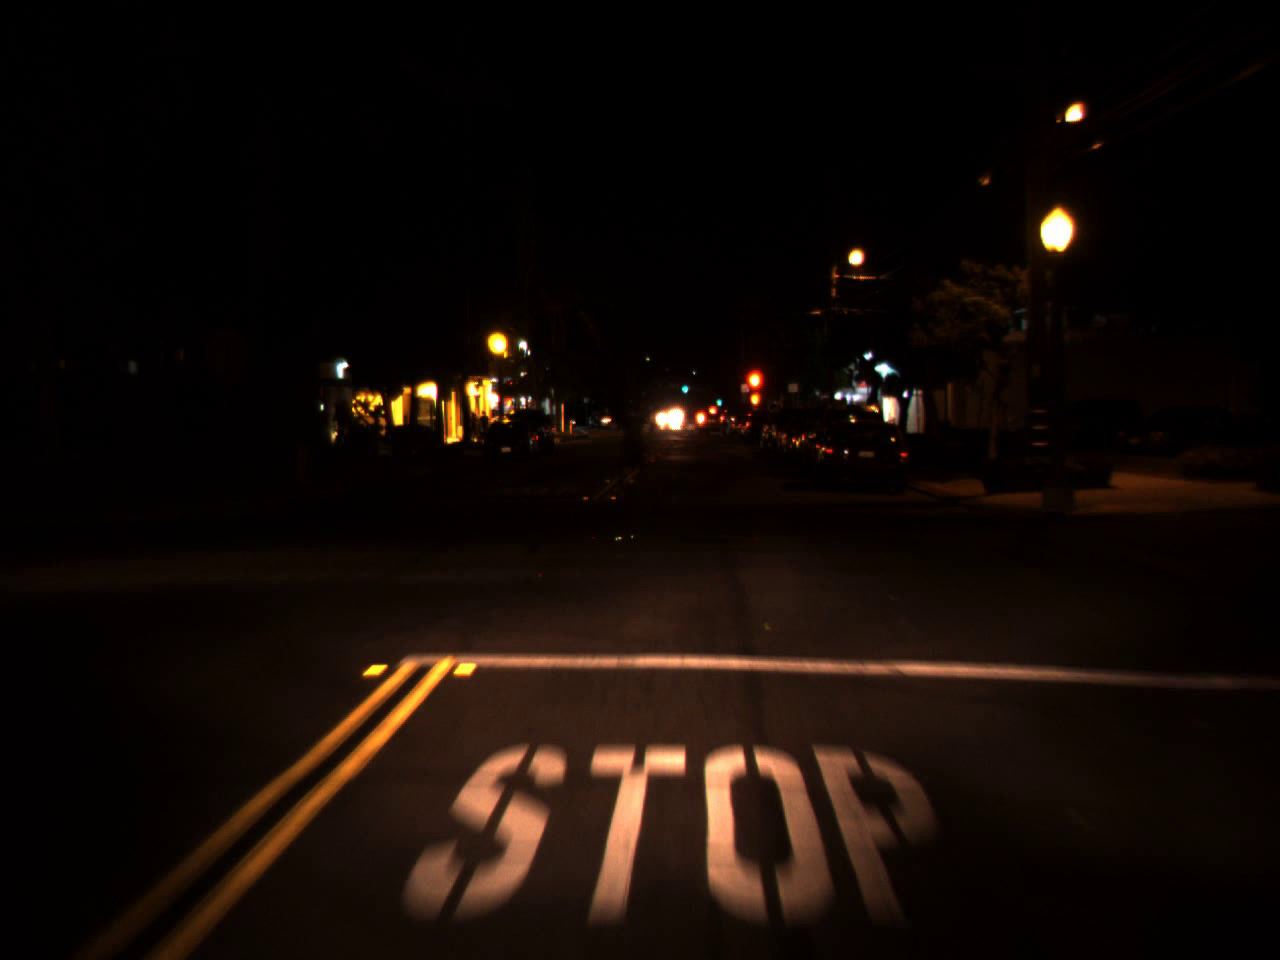go: (679, 379, 689, 394), (715, 393, 722, 405)
stop: (742, 365, 766, 419)
